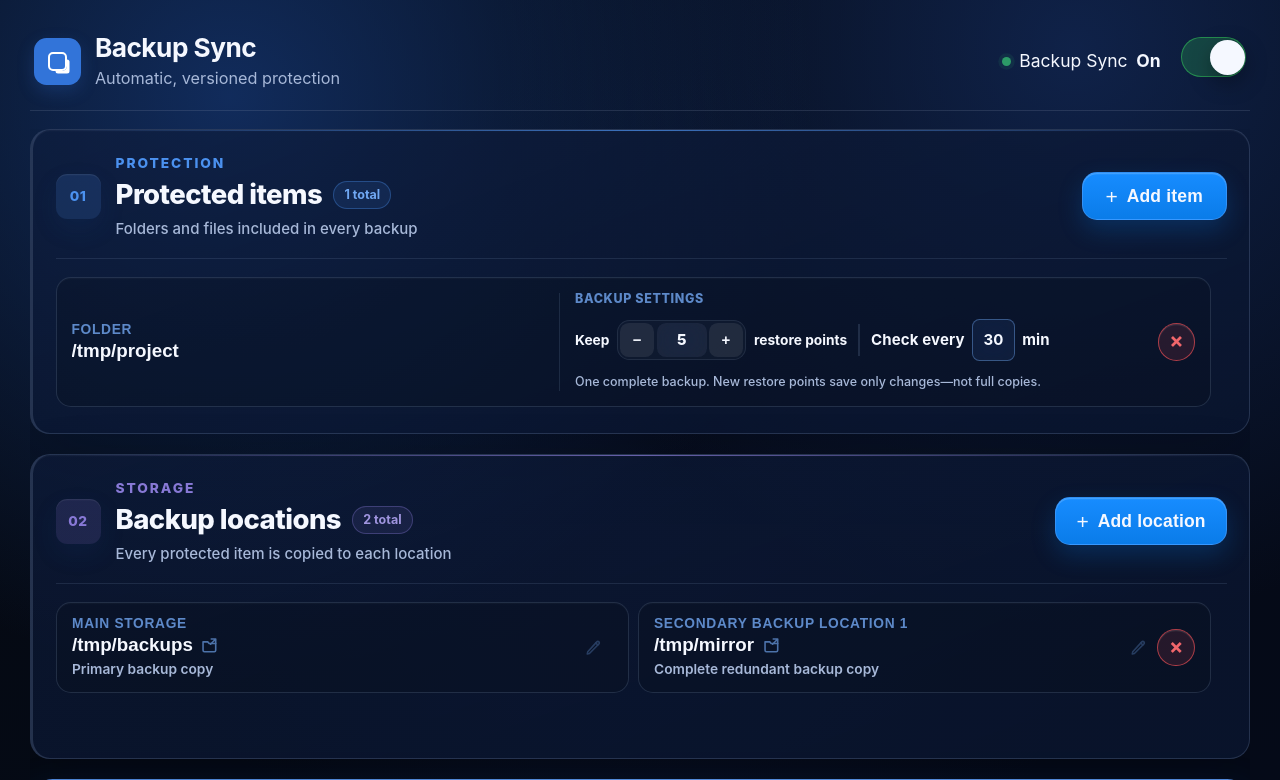
Test: MinimalMain › requires an additional verified role-swap confirmation for an existing secondary
Expected: the heading "Backup locations" is shown, [115,500,341,541]
Click the button named "Change main storage": (342, 648) [56,603,627,692]
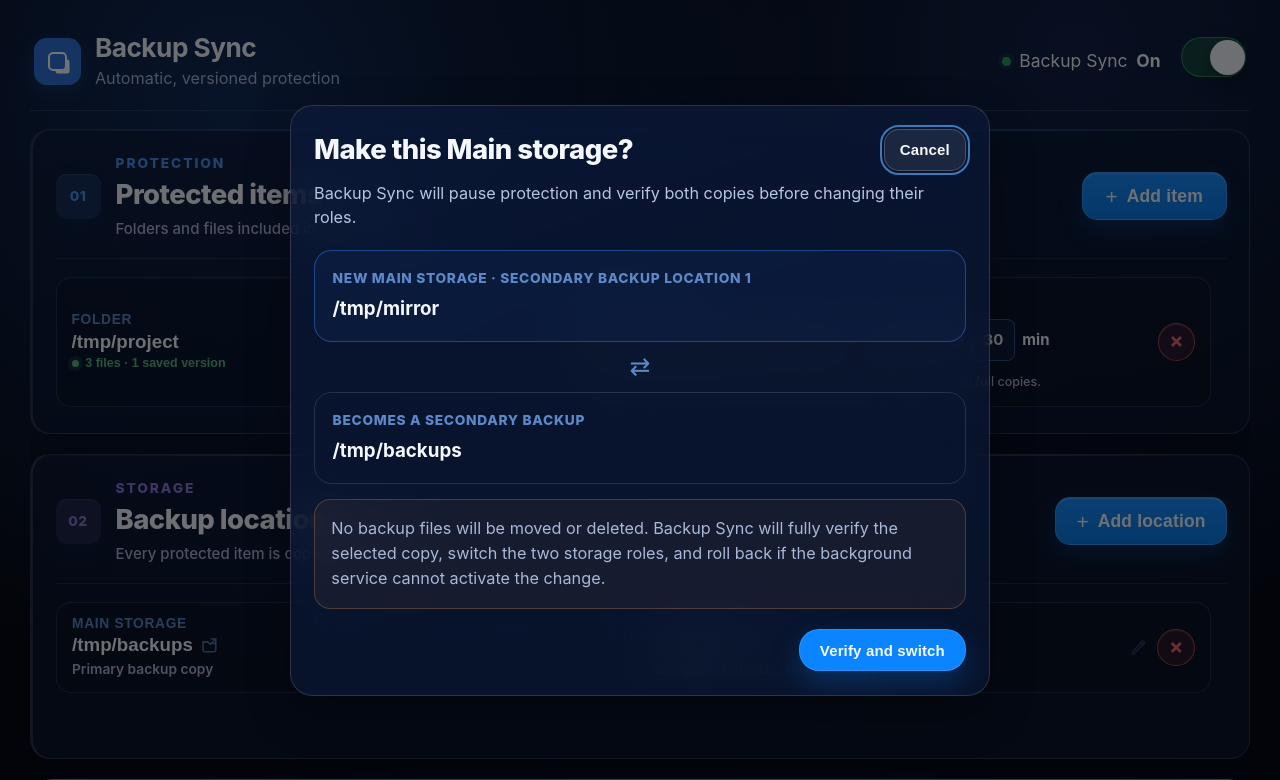
Now the heading "Make this Main storage?" is shown, box [314,129,633,170]
Now the text "roll back if the background service cannot activate" is shown, box [331,518,912,588]
Click the button "Verify and switch": (882, 650) [799,629,966,671]
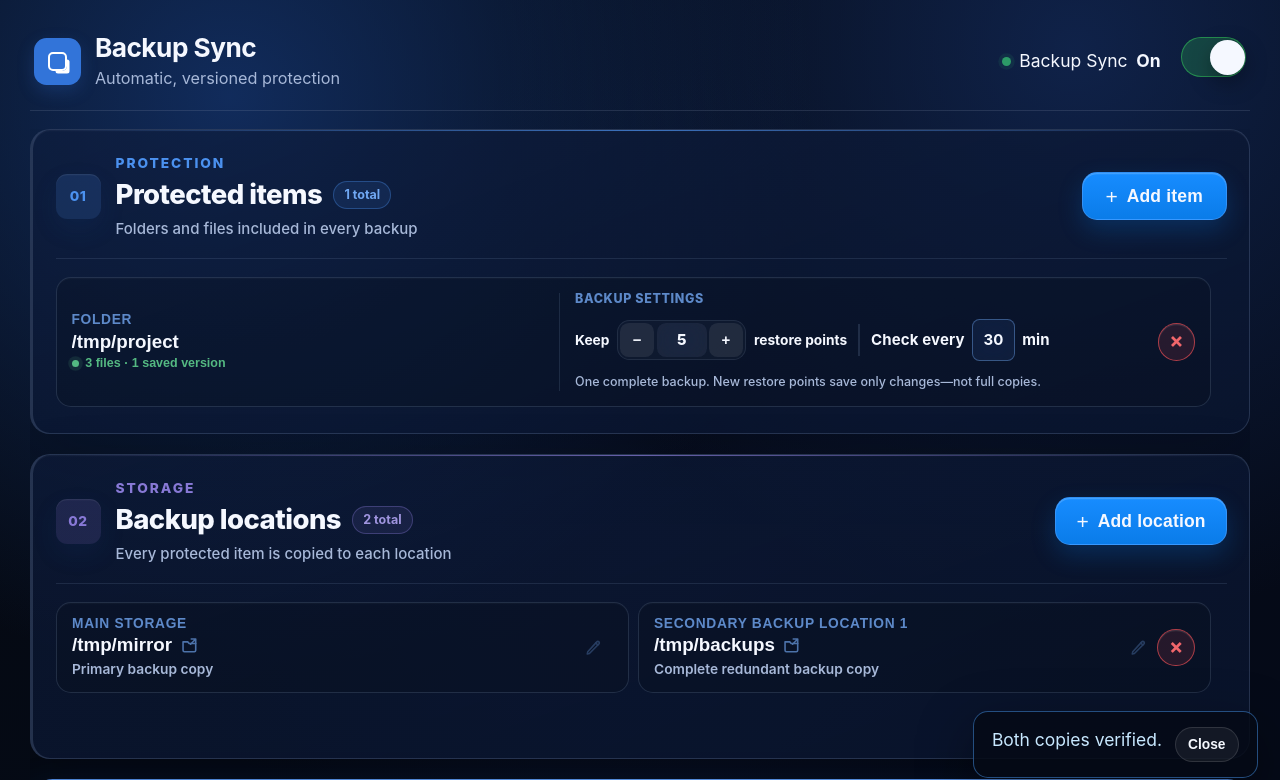
Now the text "/tmp/mirror" is shown, box [71,634,171,656]
